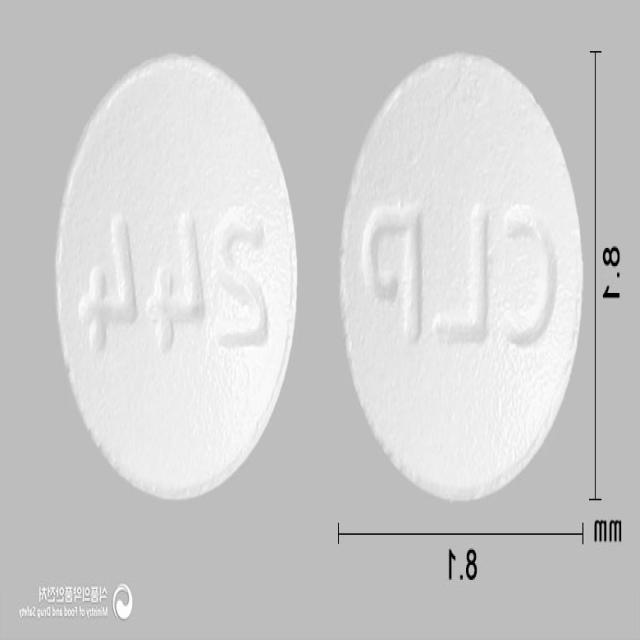Amoxicle-7-1-: (338, 51, 583, 502), (55, 52, 296, 502)
